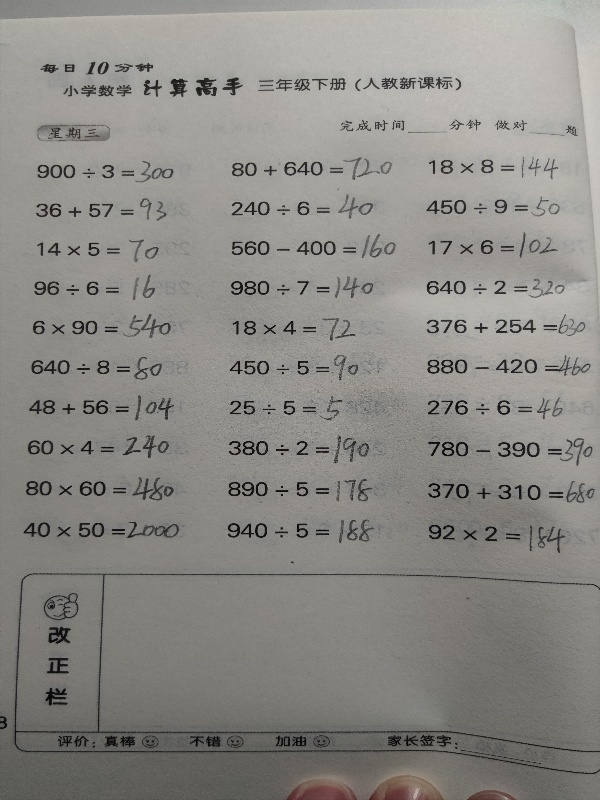equation: (426, 432, 597, 467), (23, 471, 181, 508), (227, 183, 380, 221), (428, 517, 572, 557), (424, 478, 598, 510), (29, 312, 186, 347), (228, 231, 400, 262), (30, 272, 193, 304), (227, 155, 395, 186), (224, 516, 385, 548), (423, 311, 590, 341), (424, 351, 595, 380), (426, 391, 574, 423), (220, 478, 385, 506), (425, 230, 560, 264), (225, 435, 378, 465), (27, 394, 179, 424), (20, 516, 181, 544), (227, 273, 377, 302), (34, 157, 178, 187), (28, 353, 173, 382), (228, 315, 359, 347), (34, 236, 173, 266), (32, 192, 170, 222), (423, 275, 569, 303), (28, 432, 174, 460), (423, 193, 564, 221), (425, 151, 561, 180), (228, 355, 367, 382), (224, 393, 352, 422)
